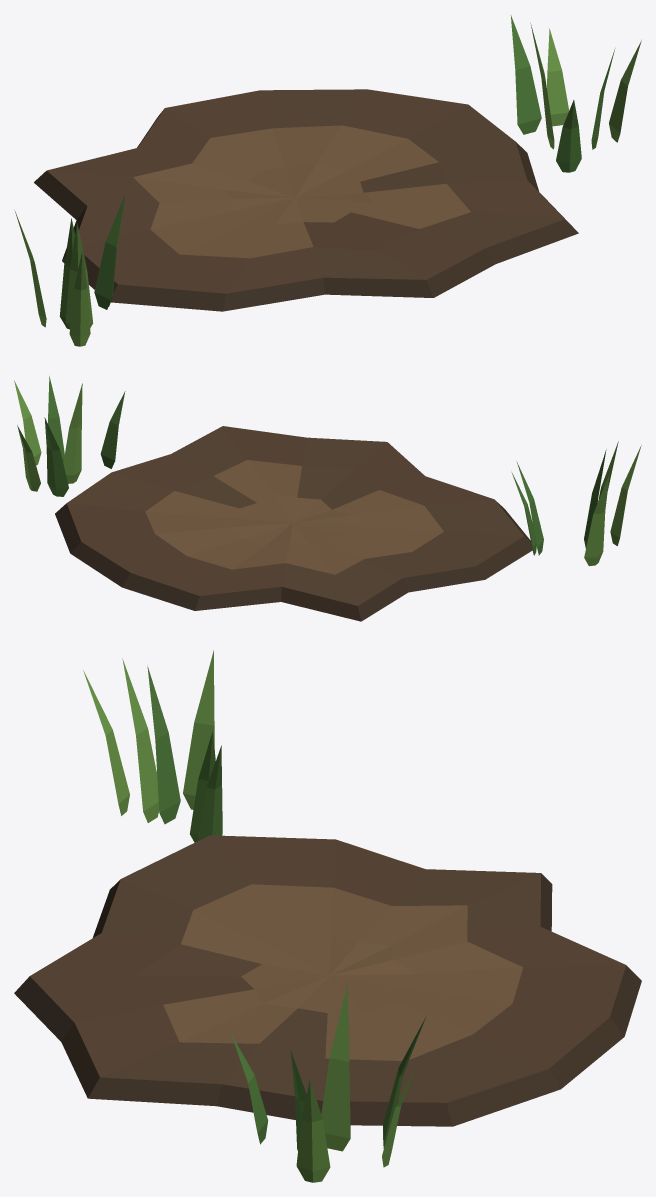
The model's file is mdvl_nature_worn_01.glb.
3 views of the same model, one above another, from view 1: azimuth 30°, elevation 25°; view 2: azimuth 150°, elevation 25°; view 3: azimuth 270°, elevation 25° (orthographic). The views are drawn at different scales.
Parts seen in each view (by area): view 1: mdvl_nature_worn_01; view 2: mdvl_nature_worn_01; view 3: mdvl_nature_worn_01.
Part boxes in pixels (x1,y1,x2,y2): mdvl_nature_worn_01: (14,15,641,346); mdvl_nature_worn_01: (14,376,641,621); mdvl_nature_worn_01: (14,650,641,1182).
Bounding box in the file's own units: 0.8288 × 0.1506 × 0.5487.
1 material, 1 textured.
